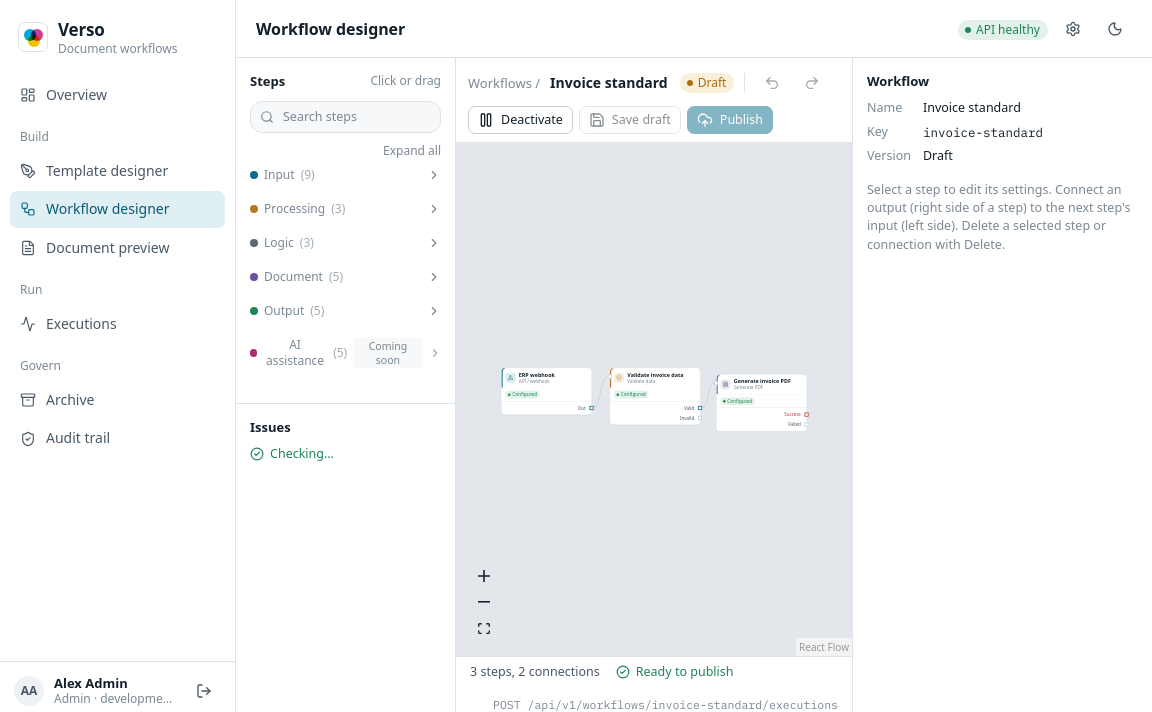
Test: Workflow designer › adds a Generate DOCX step with its Word defaults and an Editing choice
Later steps or results of the test are not shown.
Expected: the element named "Workflow designer" is shown, [456, 58, 852, 143]
Click the button "Expand all": click(412, 151) [383, 143, 441, 159]
(page scrolled)
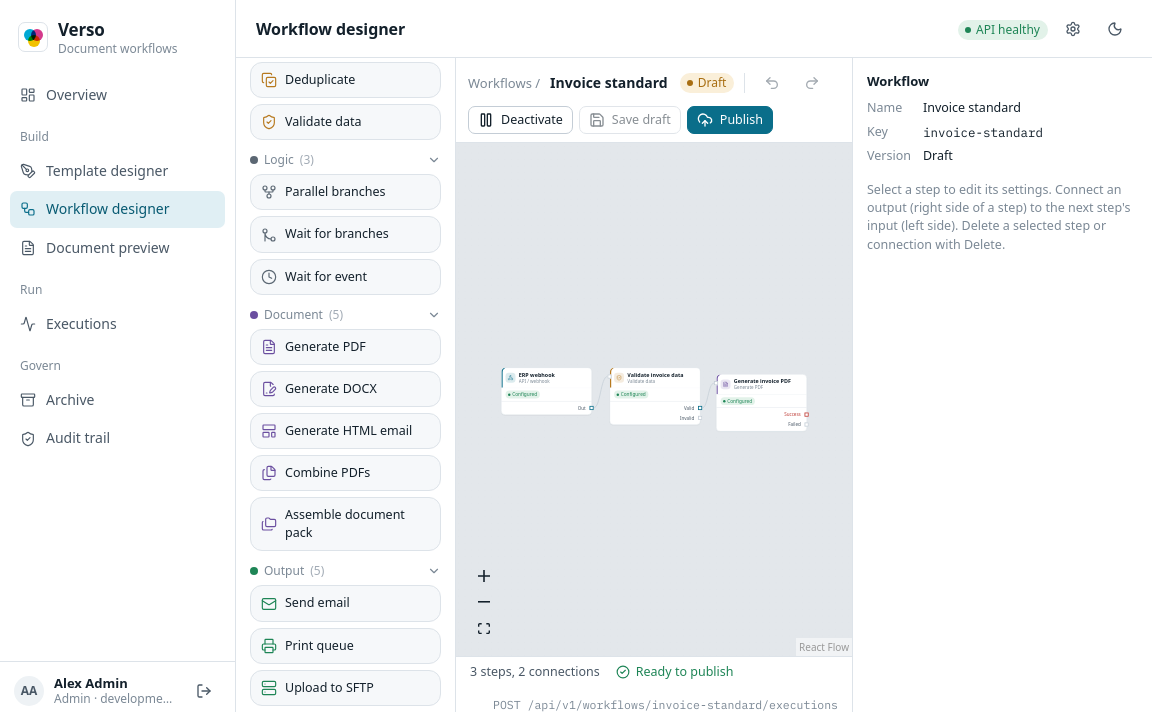
Click the button with aria-label "Add Generate DOCX": click(346, 389) [250, 371, 441, 407]
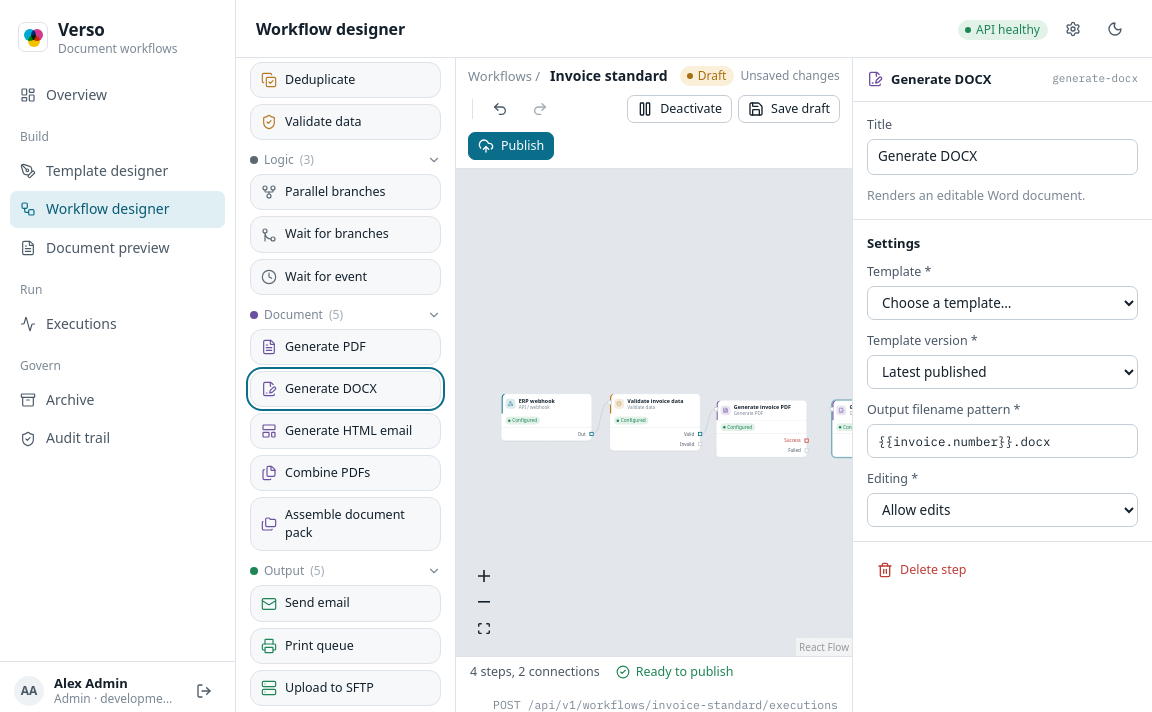
Expected: the heading "Generate DOCX" is shown, [891, 70, 992, 89]
Expected: the dropdown labelled "Editing *" shows "Allow edits", [867, 493, 1138, 527]
